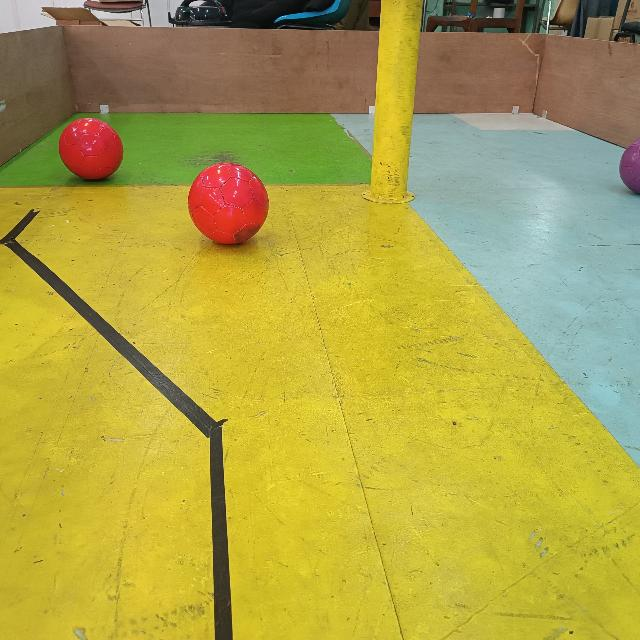P: (618, 136, 640, 197)
R: (187, 162, 271, 248), (56, 116, 126, 182)
